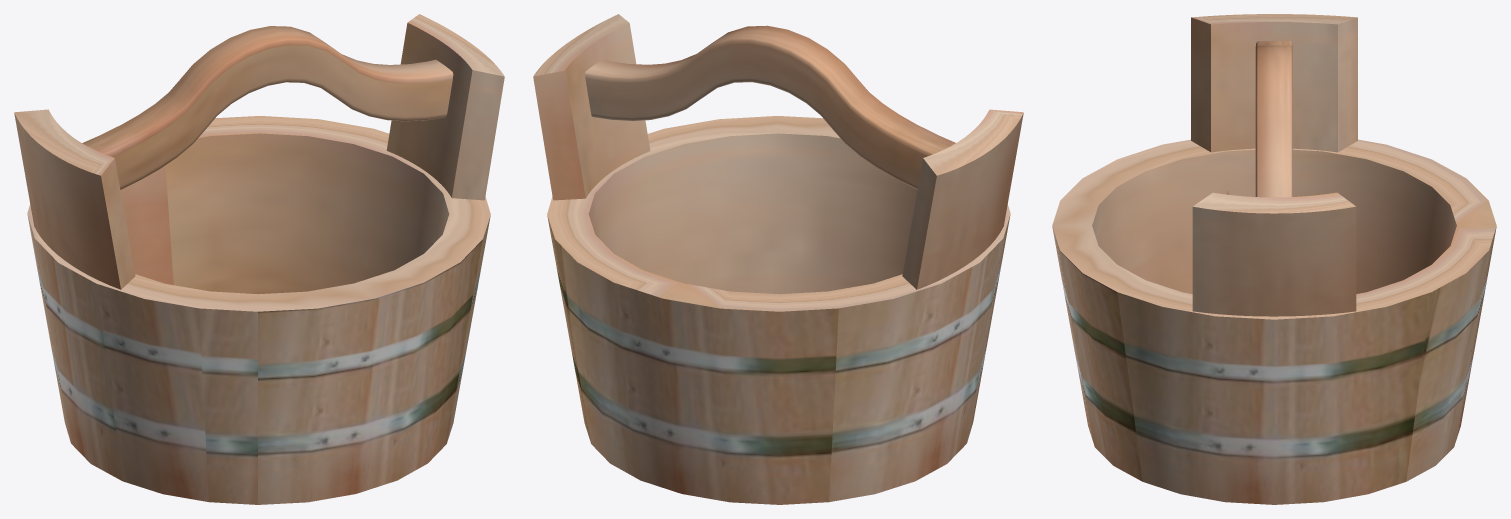
Rendered from mutong.FBX.
3 views of the same model, side by side, from view 1: azimuth 30°, elevation 25°; view 2: azimuth 150°, elevation 25°; view 3: azimuth 270°, elevation 25° (orthographic). The views are drawn at different scales.
Visible parts, largest first — view 1: BADY; view 2: BADY; view 3: BADY.
Part boxes in pixels (bbox=[...]): BADY: bbox=[14, 14, 504, 504]; BADY: bbox=[533, 14, 1023, 504]; BADY: bbox=[1052, 14, 1496, 504].
Bounding box in the file's own units: 85.85 × 74.36 × 80.72.
